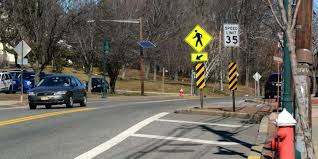pedestrianCrossing: (183, 22, 215, 52)
speedLimit35: (222, 23, 241, 49)
